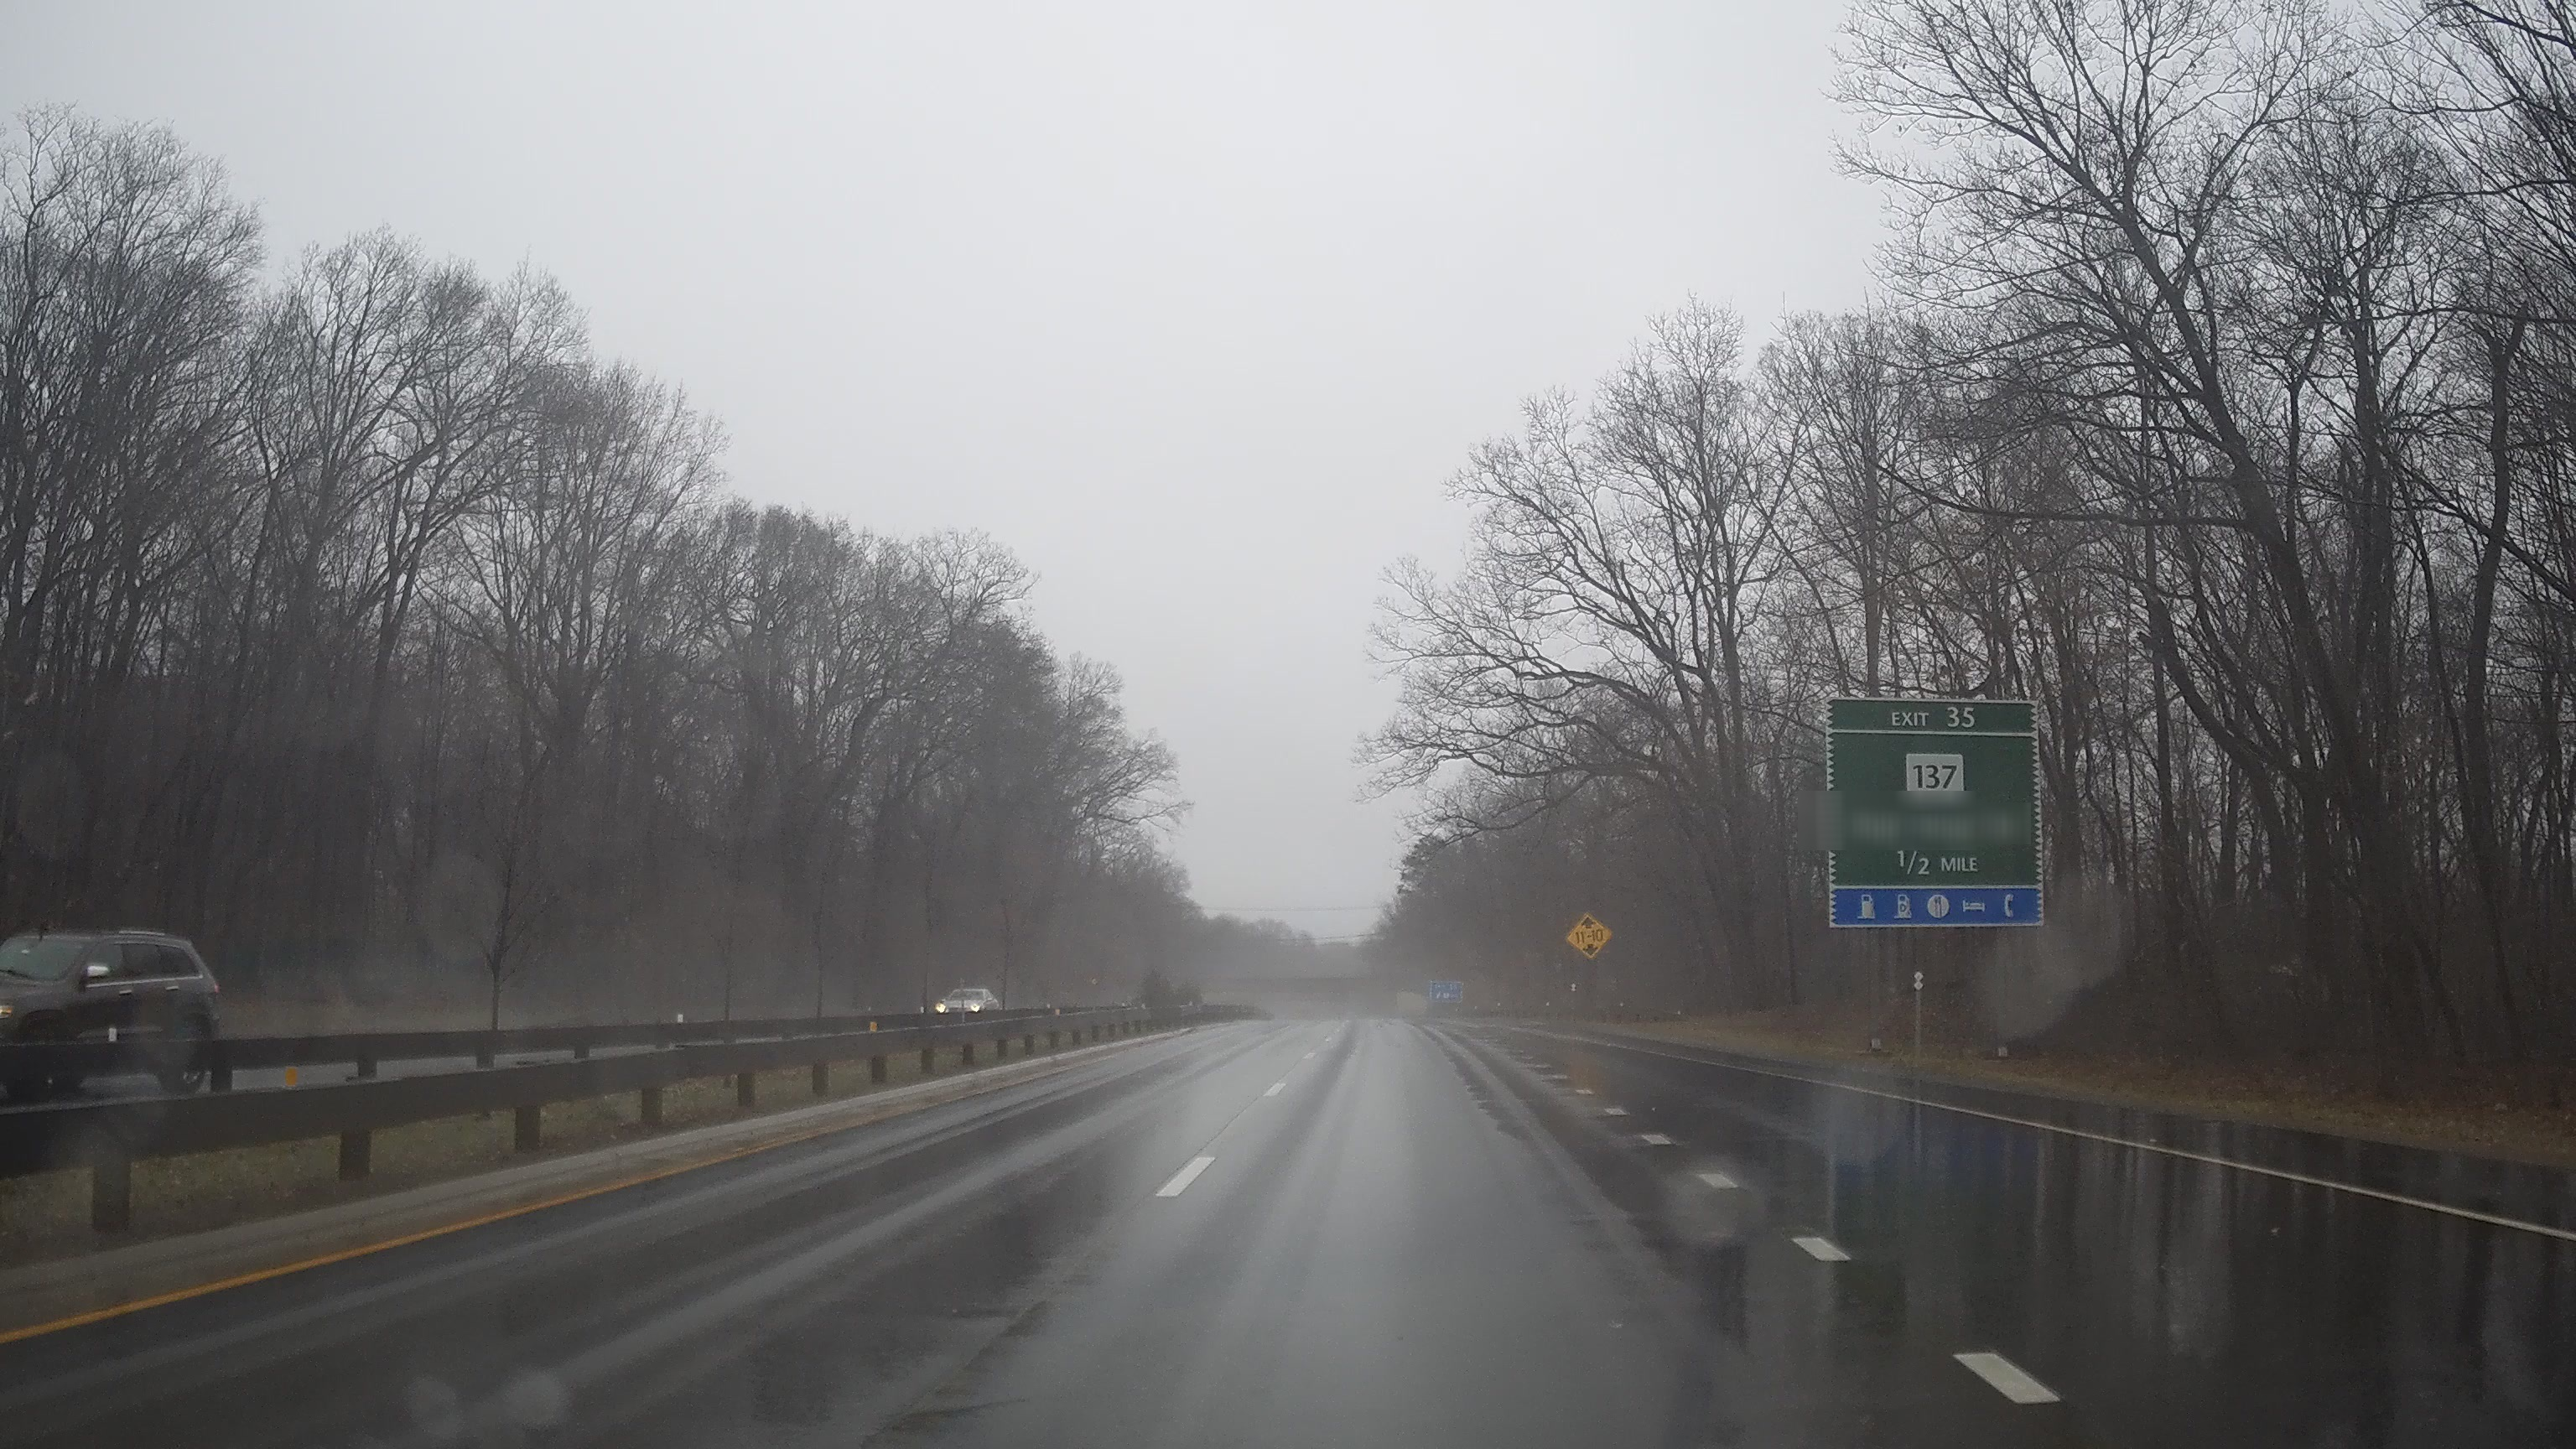low-clearance-sign: (1566, 911, 1614, 961)
